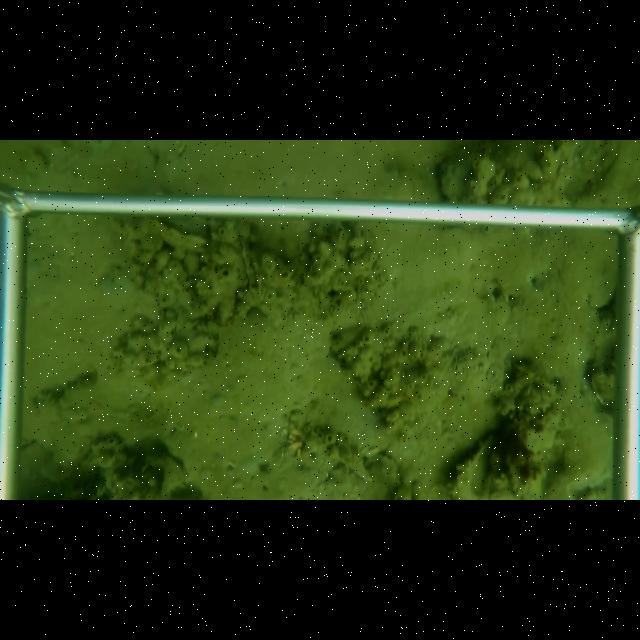Oyster-Closed: (223, 236, 255, 327), (136, 217, 208, 250)
